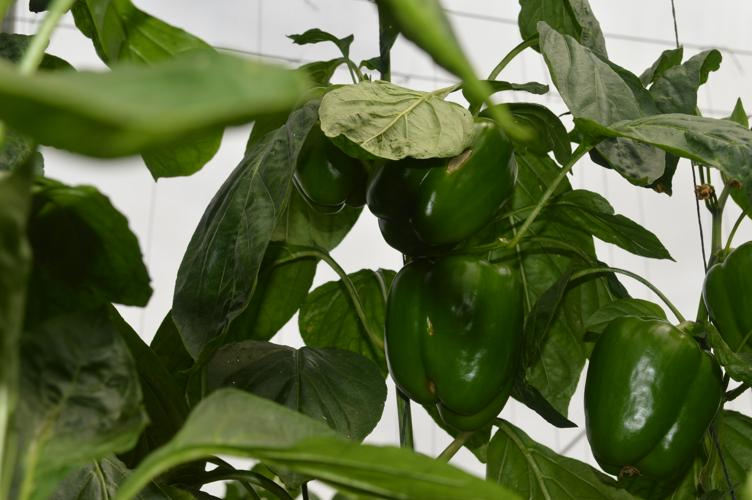BellPepper: (385, 257, 523, 432), (589, 316, 720, 478), (364, 119, 521, 252), (288, 146, 364, 216)
